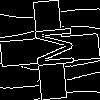M: (25, 25, 74, 70)
